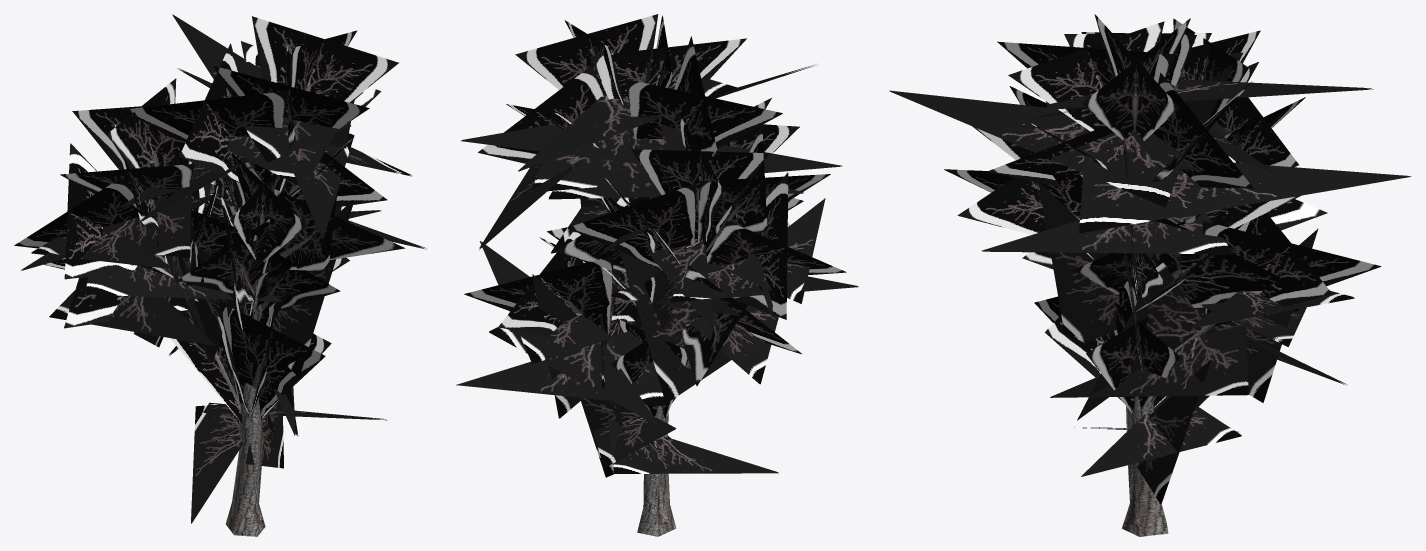
Rendered from olmo_seco_d.glb.
3 renders of one model, left to right at view 1: azimuth 30°, elevation 25°; view 2: azimuth 150°, elevation 25°; view 3: azimuth 270°, elevation 25°, orthographic. The views are drawn at different scales.
Visible parts, largest first — view 1: Modelo; view 2: Modelo; view 3: Modelo.
Part boxes in pixels (x1,y1,x2,y2): Modelo: (14,14,426,536); Modelo: (456,14,858,536); Modelo: (889,14,1411,536).
Size of the model in its own units: 8.72 by 11.03 by 9.93.
Materials: 1 (1 with a texture image).
